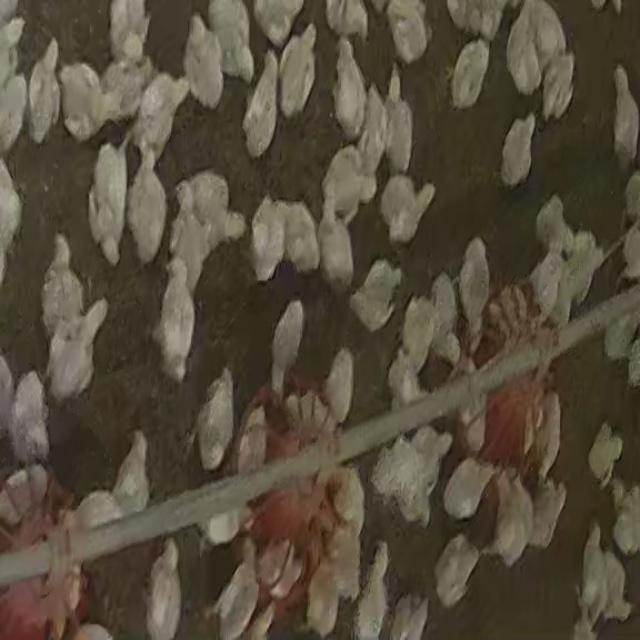chicken: (46, 294, 109, 404), (153, 254, 199, 388), (125, 146, 170, 268), (40, 229, 86, 343), (87, 139, 129, 262), (133, 70, 190, 159), (318, 145, 374, 232), (484, 473, 535, 568), (57, 58, 109, 144), (196, 368, 237, 474), (440, 456, 502, 526), (166, 180, 204, 291), (182, 17, 226, 112), (242, 52, 280, 160), (213, 555, 263, 637), (10, 369, 52, 466), (397, 288, 444, 374), (276, 26, 318, 122), (352, 536, 392, 636), (350, 258, 402, 334), (457, 236, 493, 344), (26, 36, 61, 146), (332, 36, 369, 140), (146, 537, 184, 638), (109, 428, 151, 517), (270, 297, 306, 400), (316, 204, 357, 294), (434, 533, 483, 608), (247, 197, 288, 285), (578, 523, 614, 623), (382, 181, 440, 243), (278, 199, 324, 277), (450, 356, 490, 444), (198, 168, 243, 244), (382, 80, 416, 176), (358, 80, 392, 175), (528, 247, 568, 325), (448, 38, 491, 109), (431, 268, 464, 360), (304, 550, 341, 632), (499, 112, 539, 187), (527, 479, 568, 552), (609, 67, 640, 162), (531, 392, 563, 481), (539, 49, 577, 122), (73, 488, 126, 538), (324, 344, 356, 425), (586, 421, 624, 489), (602, 302, 640, 370), (386, 347, 426, 411), (323, 474, 368, 530), (1, 70, 30, 156), (512, 10, 542, 92), (259, 544, 305, 596), (284, 396, 342, 434), (606, 552, 634, 626), (611, 485, 640, 556), (620, 208, 640, 290)
